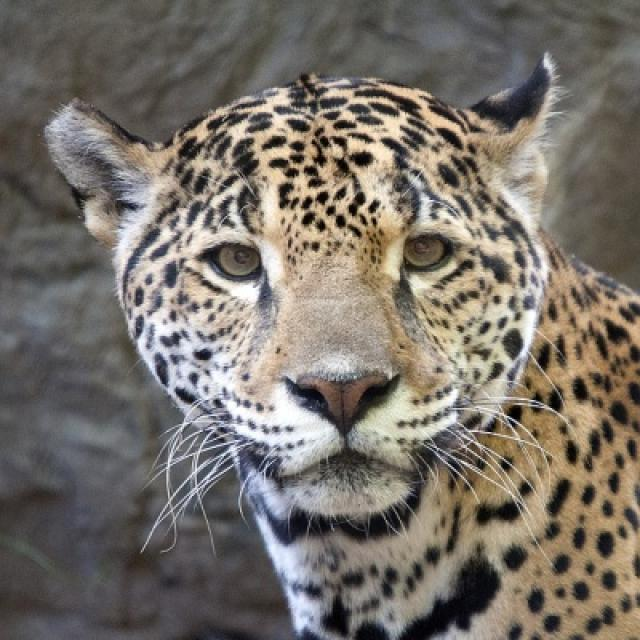Jaguar: (43, 54, 638, 638)
